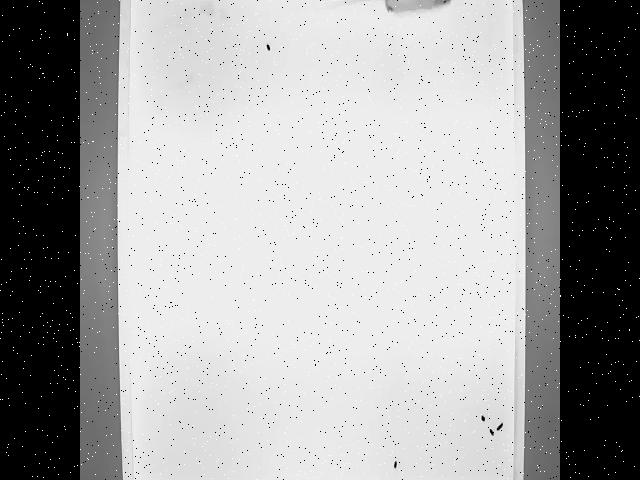Tikus: (321, 0, 451, 14)
